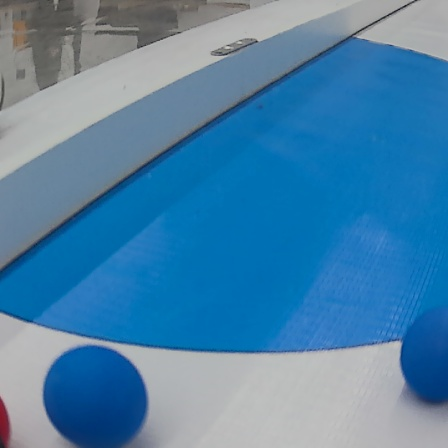blue: (36, 348, 158, 448), (396, 302, 448, 408)
blue_base: (2, 35, 448, 363)
